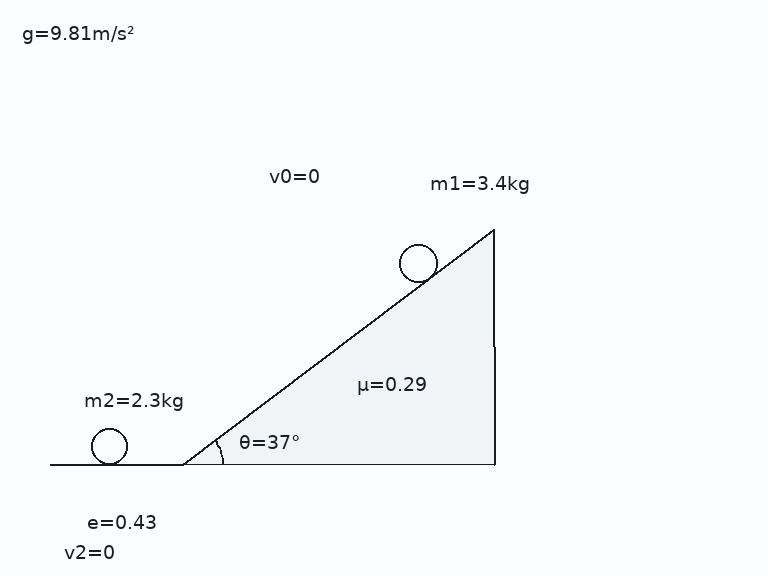ball: (397, 242, 439, 284), (89, 426, 129, 466)
ramp: (181, 228, 496, 466)
